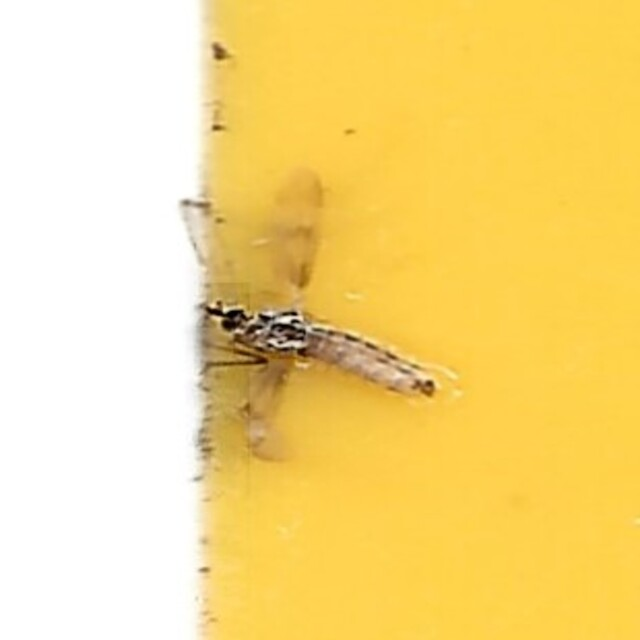Nematocera: (206, 173, 434, 467)
